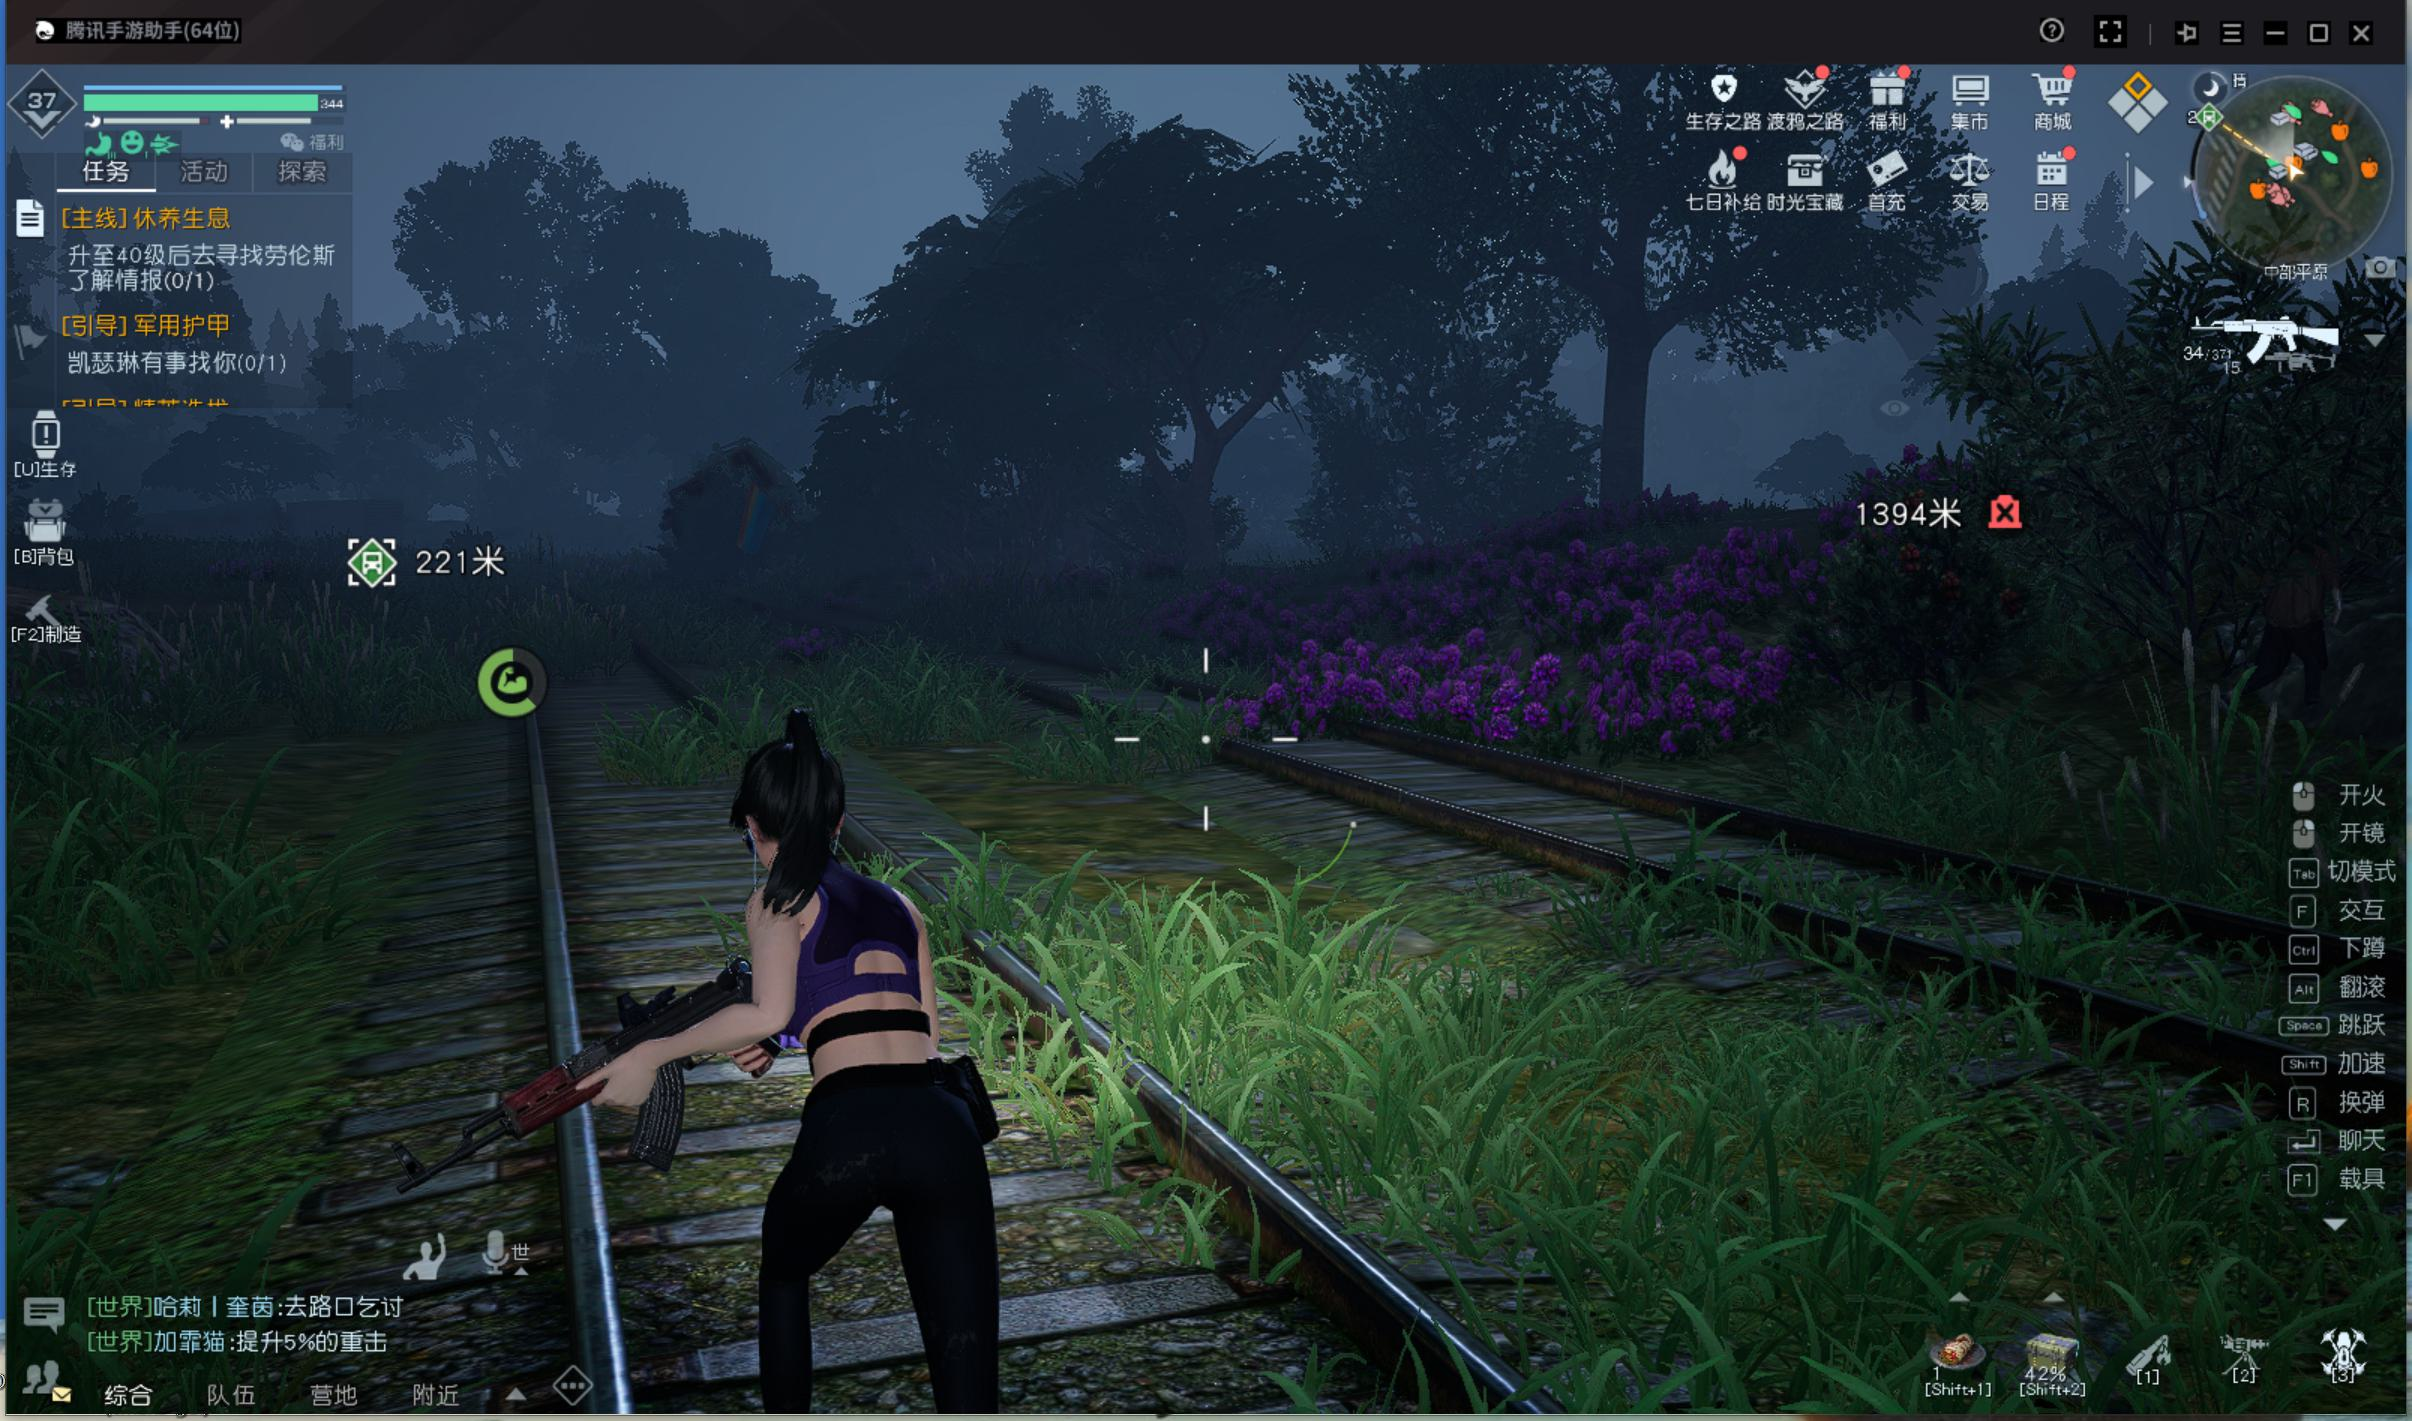tree: (1593, 342, 1669, 553), (1152, 428, 1245, 589)
